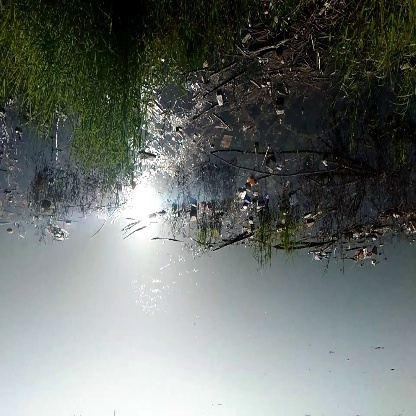branch: (209, 144, 371, 183)
